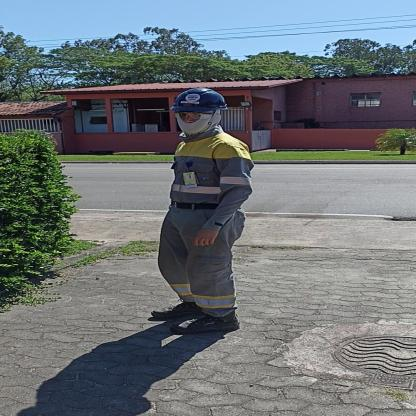Balaclava: (171, 106, 219, 136)
Capacete: (170, 86, 225, 112)
